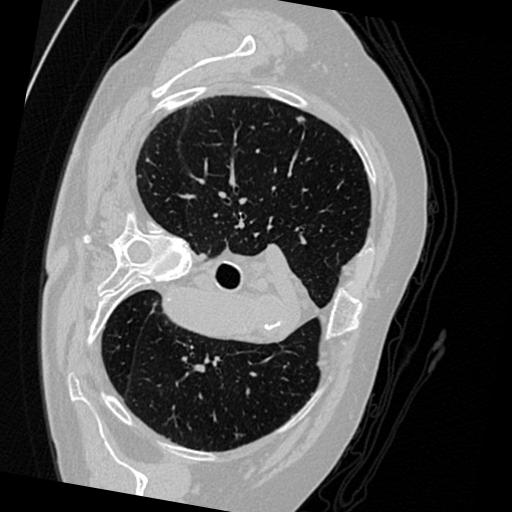nodule: (295, 112, 310, 127)
